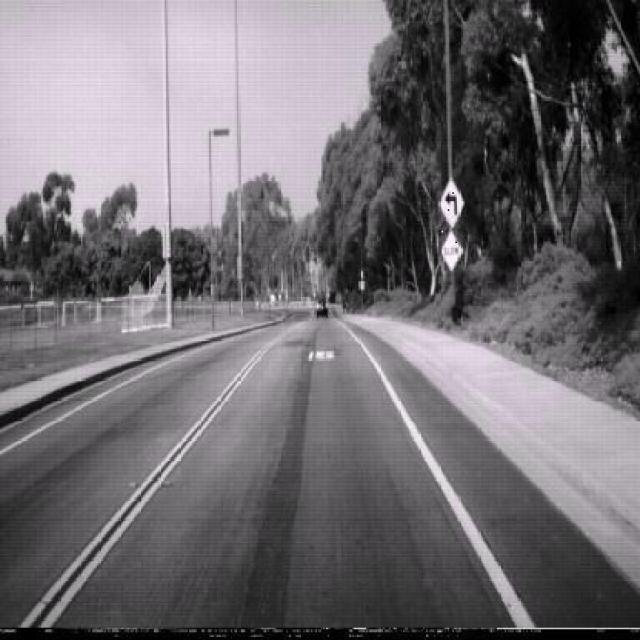slow: (443, 228, 465, 272)
turnLeft: (438, 175, 465, 228)
